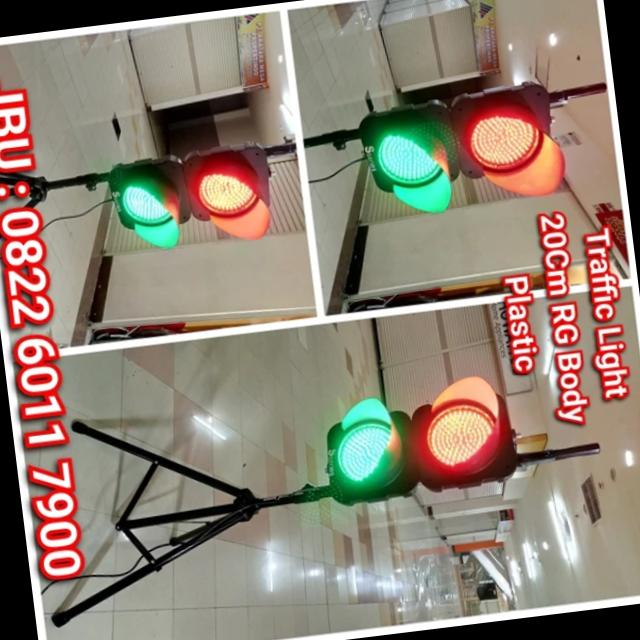green-lights: (372, 125, 445, 192), (331, 419, 398, 485), (119, 180, 172, 227)
red-lights: (420, 401, 498, 467), (468, 110, 542, 172), (194, 165, 262, 218)
